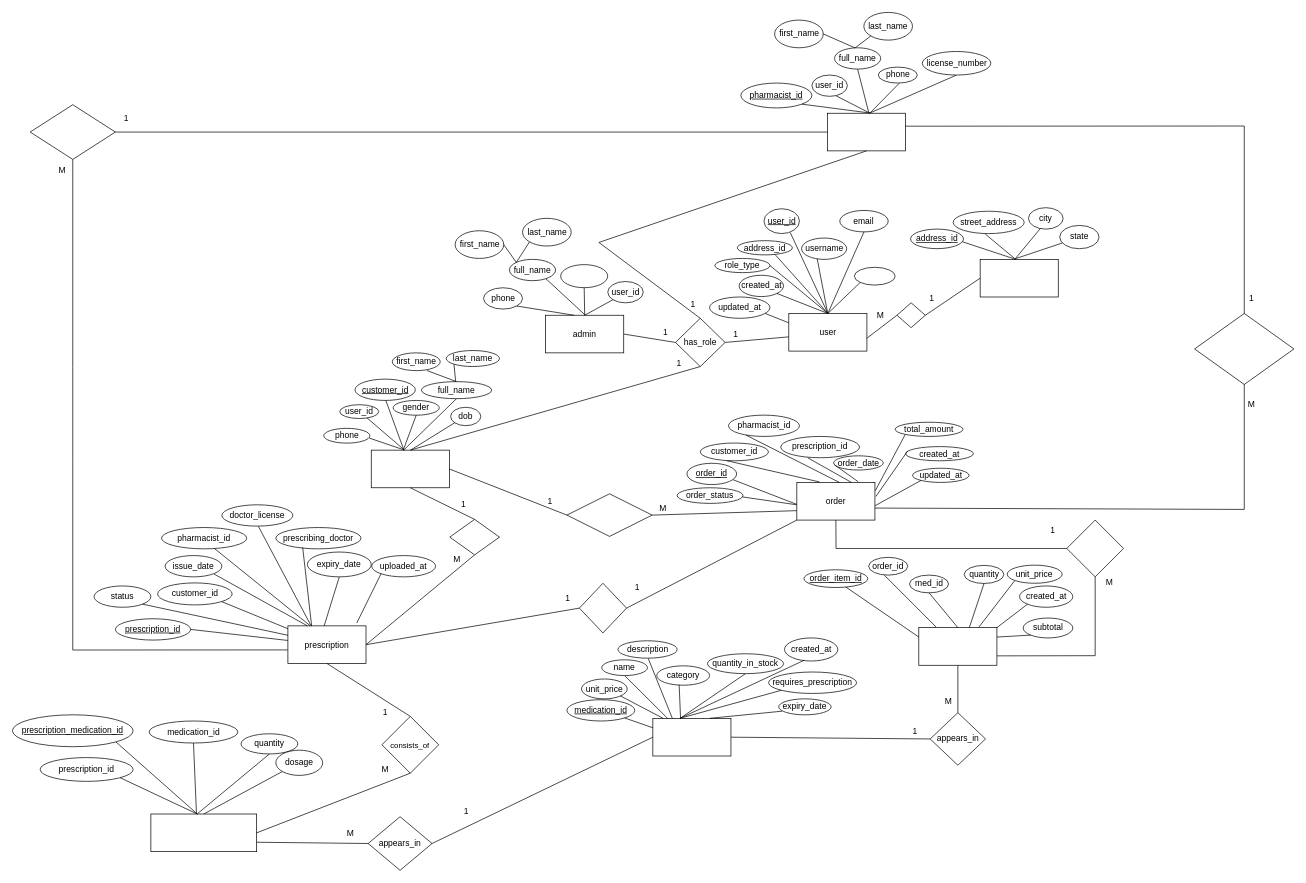
This 1306x883 diagram has some shape labels left out. The shapes that lost their labels are listed below. From the top down, each one's centre as x and y in pixels, then its label:
At (72,131): "reviews/processes".
At (866,132): "pharmacist".
At (584,276): "admin_id".
At (874,276): "password".
At (1018,278): "address".
At (910,315): "has".
At (1244,348): "reviews/confirms".
At (410,468): "patient/customer".
At (609,514): "places".
At (474,537): "uploads".
At (1095,548): "contains".
At (603,608): "uses".
At (957,646): "order_item".
At (691,737): "medication".
At (203,832): "prescription_medication".
